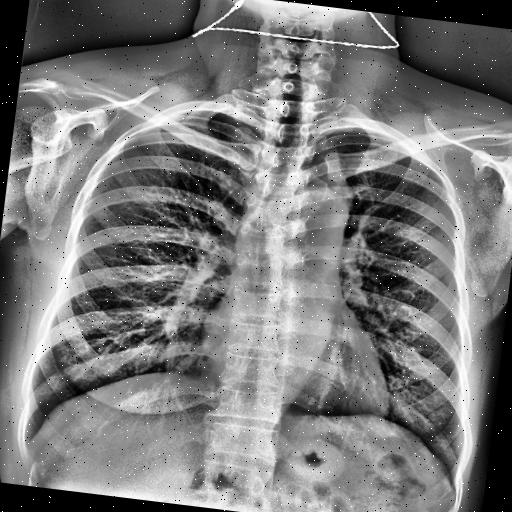0- Aortic enlargement: (274, 179, 354, 248), (278, 182, 350, 252), (292, 184, 352, 236)
11- Pleural thickening: (312, 122, 363, 140)
